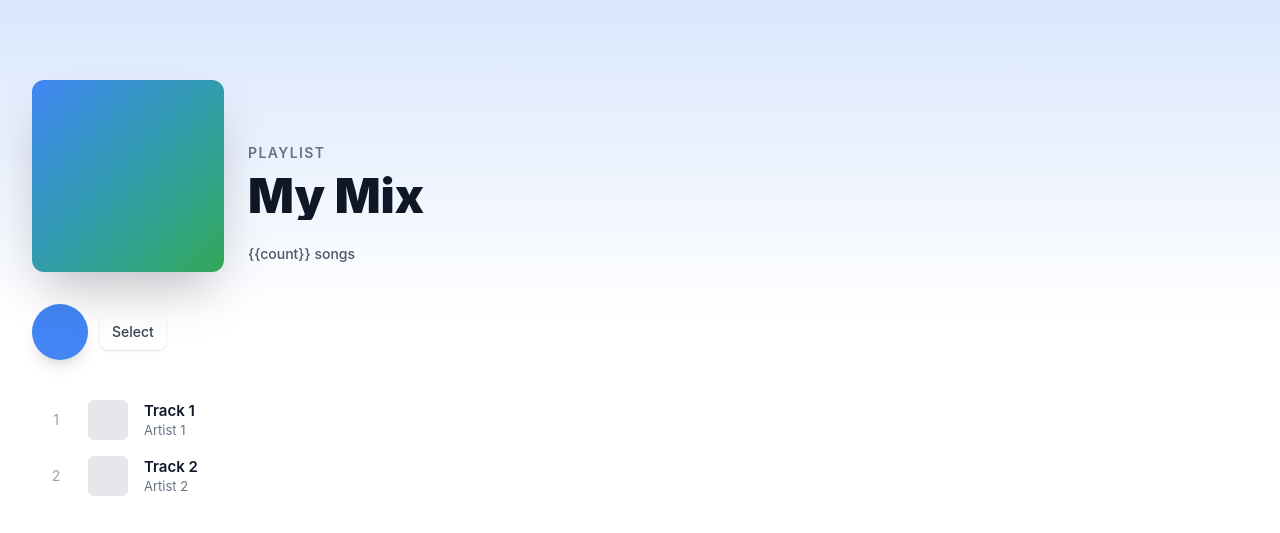
Test case: PlaylistView playlist row menu + selection mode › bulk Remove selected deletes every selected id once and exits selection when all rows go
The width and height of the screenshot is (1280, 533).
Right-click the heading "Track 2" at (171, 466), box [144,456,198,476]
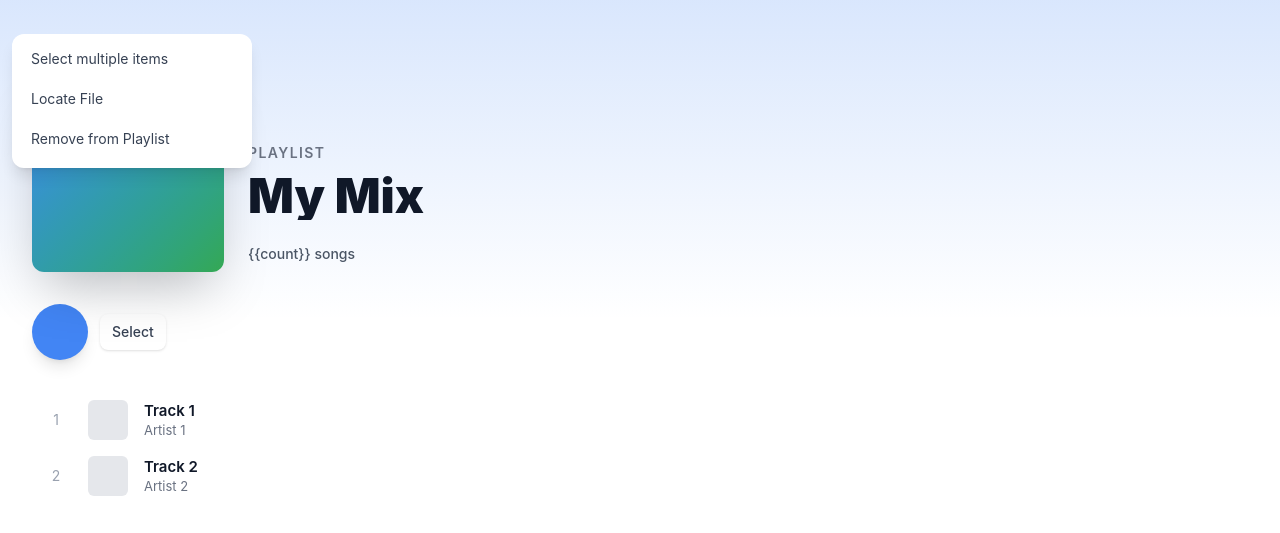
Click the menu item "Select multiple items" at (132, 59), box [19,41,245,77]
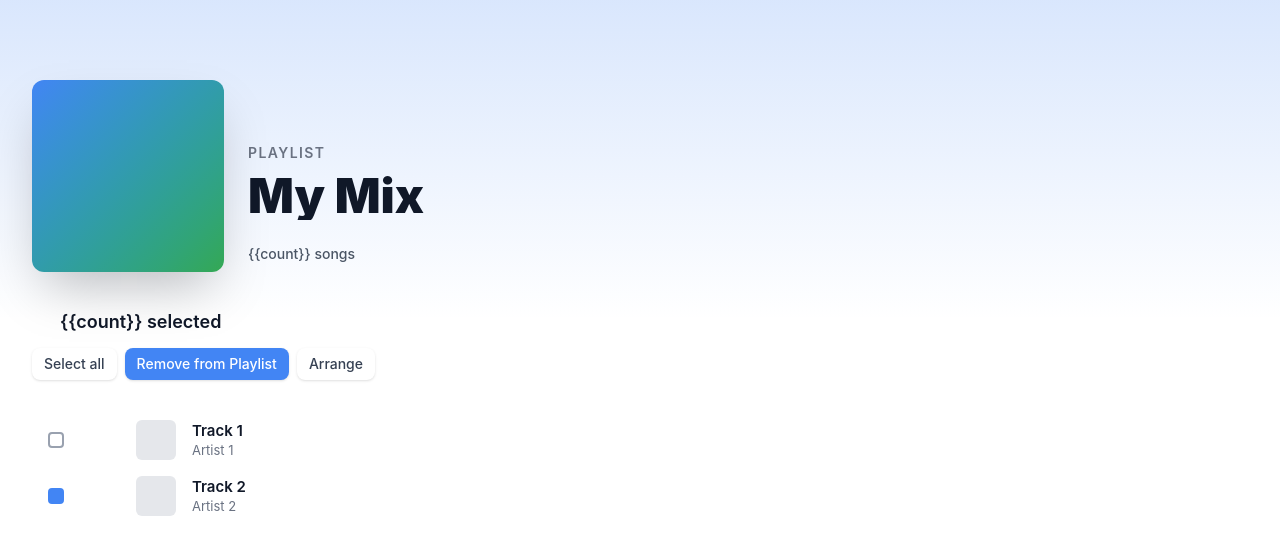
Click the heading "Track 1" at (217, 430), box [192,420,243,440]
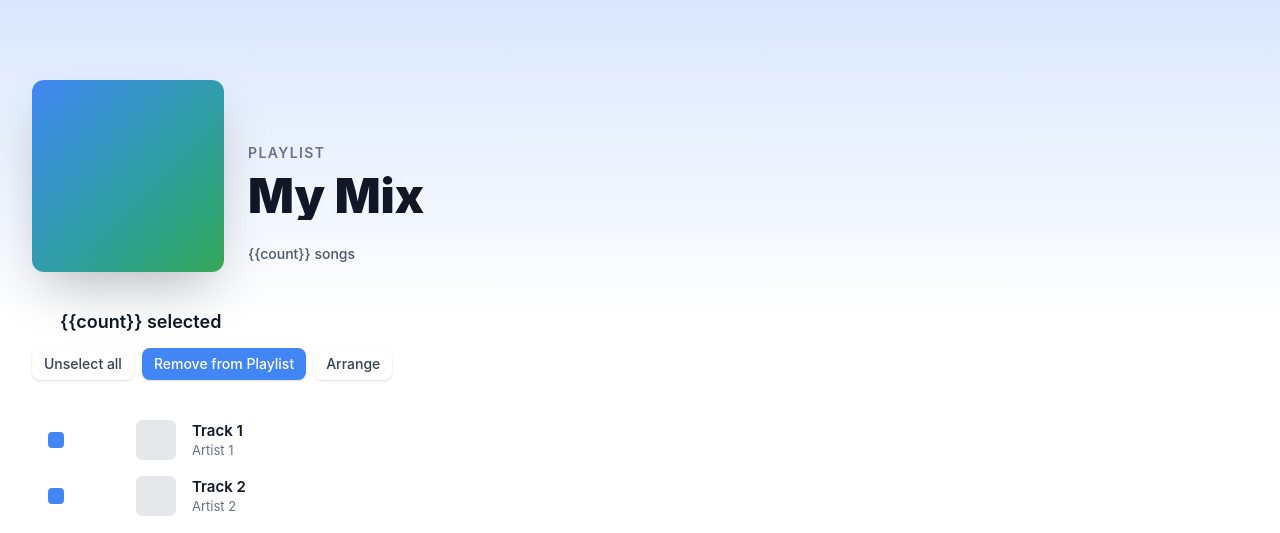
Click the button with test id "queue-remove-selected" at (224, 364), box [142,348,306,380]
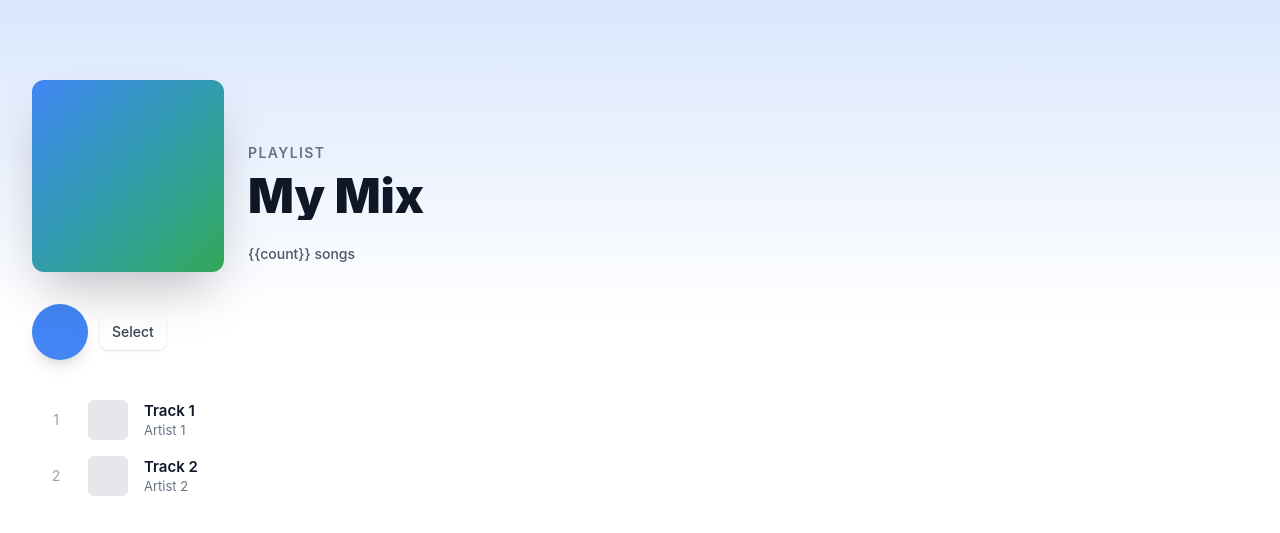
Expected: the element with test id "queue-selection-toolbar" is gone
Expected: the 2nd button is shown, [32,304,88,360]
